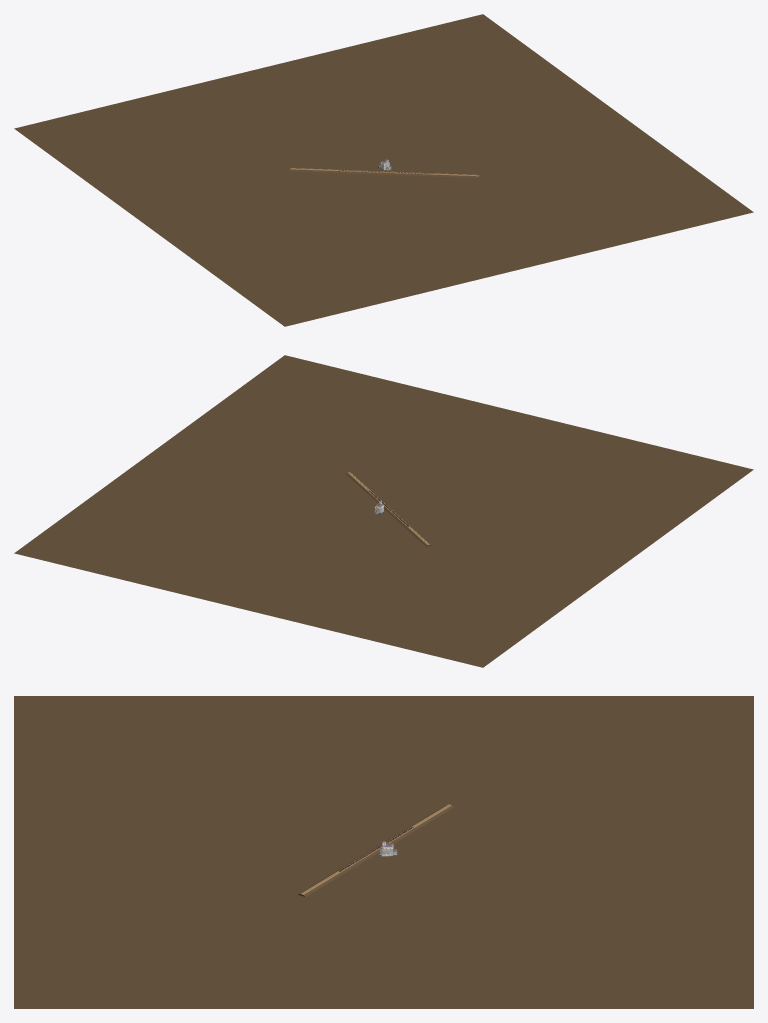
File: railroad-base-claude-fable-5-2.glb
The picture shows the model from 3 angles, top to bottom: view 1: azimuth 30°, elevation 25°; view 2: azimuth 150°, elevation 25°; view 3: azimuth 270°, elevation 25°; orthographic projection. The views are drawn at different scales.
Bounding box in the file's own units: 800 × 55.96 × 800.
